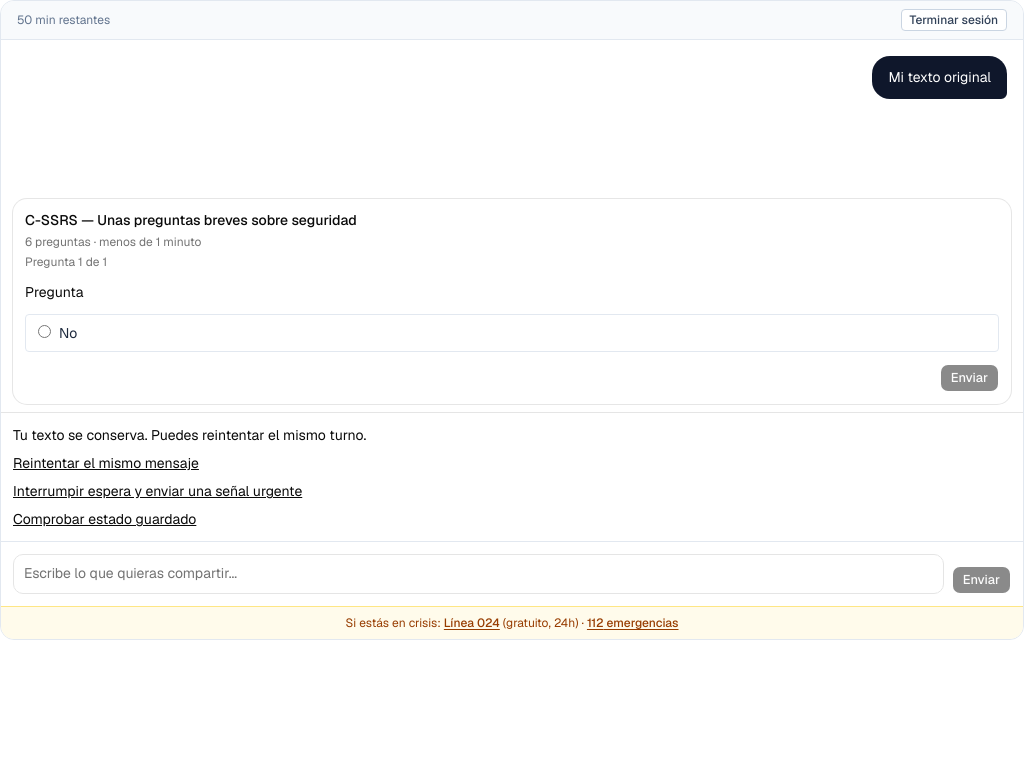
Test: allows typing during screening and while submitted, with an accessible urgent exit
Type "Voy a matarme" into the text box at (478, 574), box [13,554,944,594]
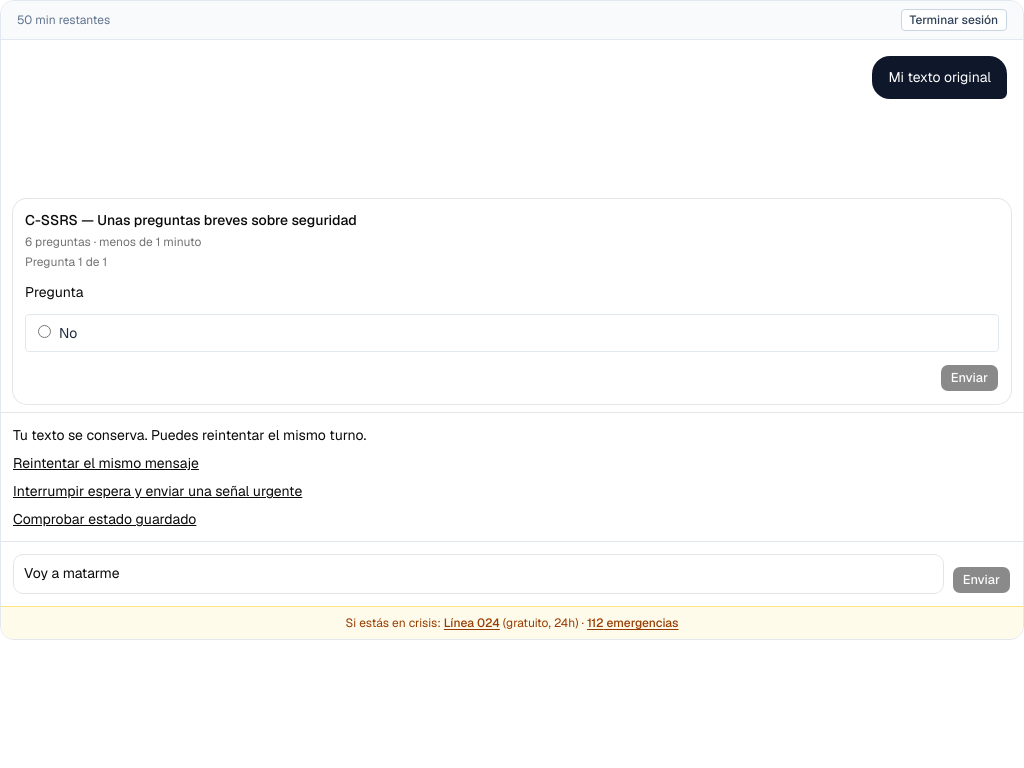
Click the button "Interrumpir espera y enviar una señal urgente" at (158, 491), box [13,481,302,501]
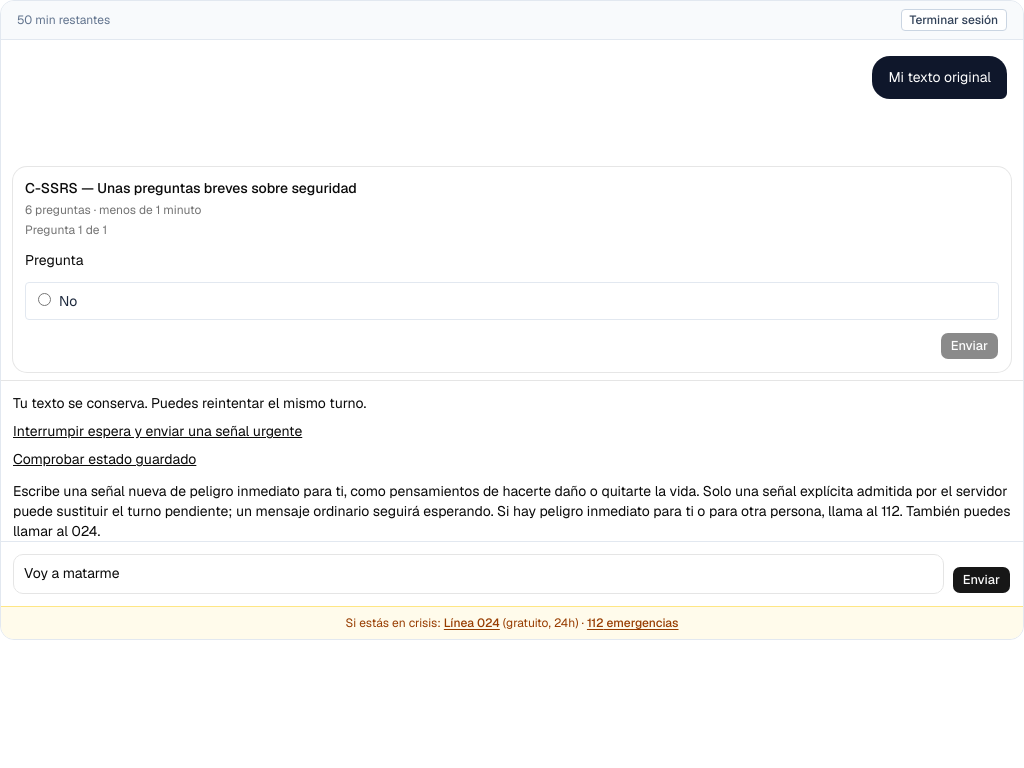
Click the 2nd button "Enviar" at (981, 580), box [952,566,1011,594]
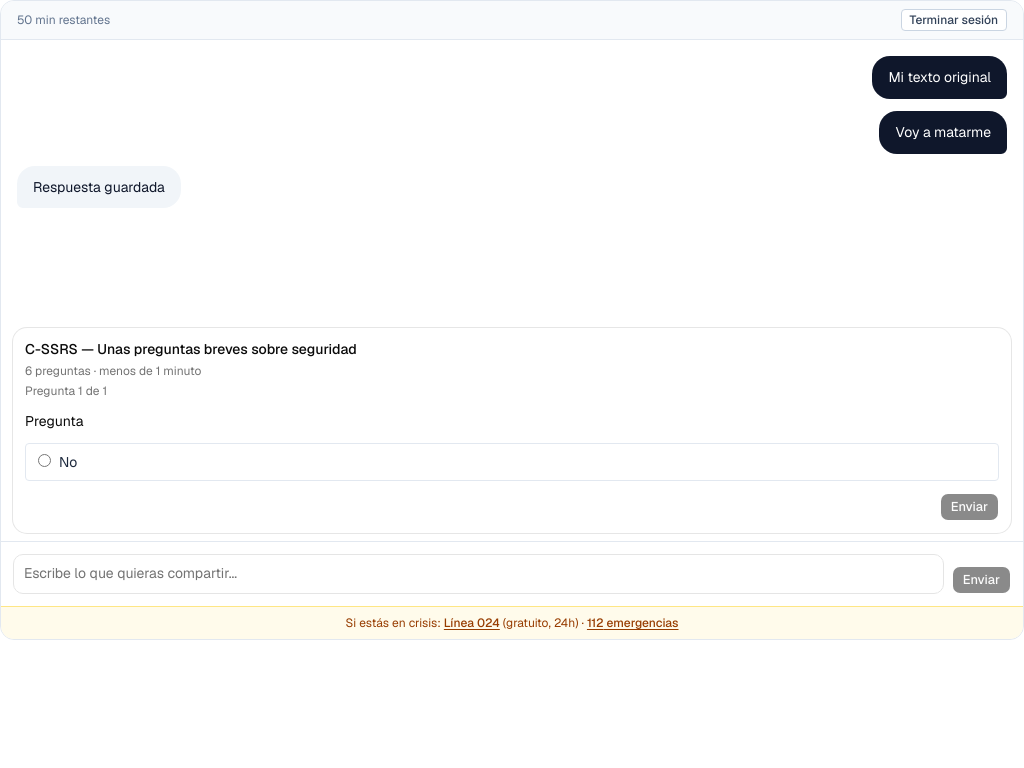
Now the text "Respuesta guardada" is shown, box [33,178,165,196]
